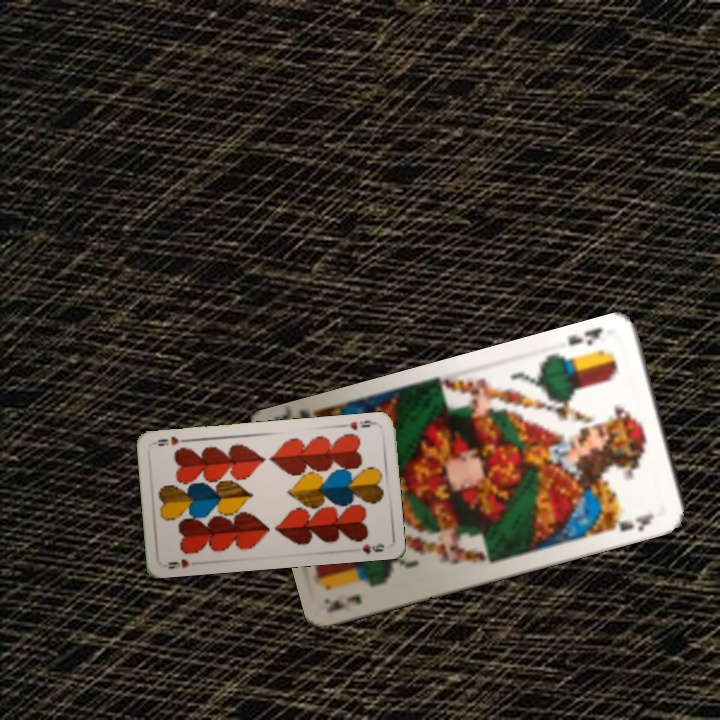EK: (564, 323, 606, 349), (327, 589, 364, 614)
H9: (338, 416, 379, 433), (164, 555, 192, 571)
